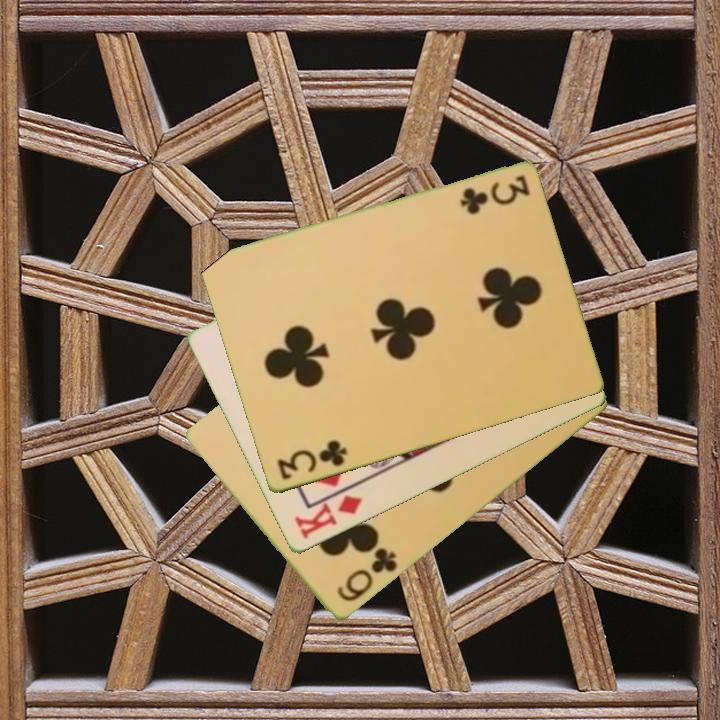3c: (273, 436, 350, 483), (456, 172, 532, 215)
6c: (333, 544, 401, 606)
Kd: (290, 492, 366, 543)
